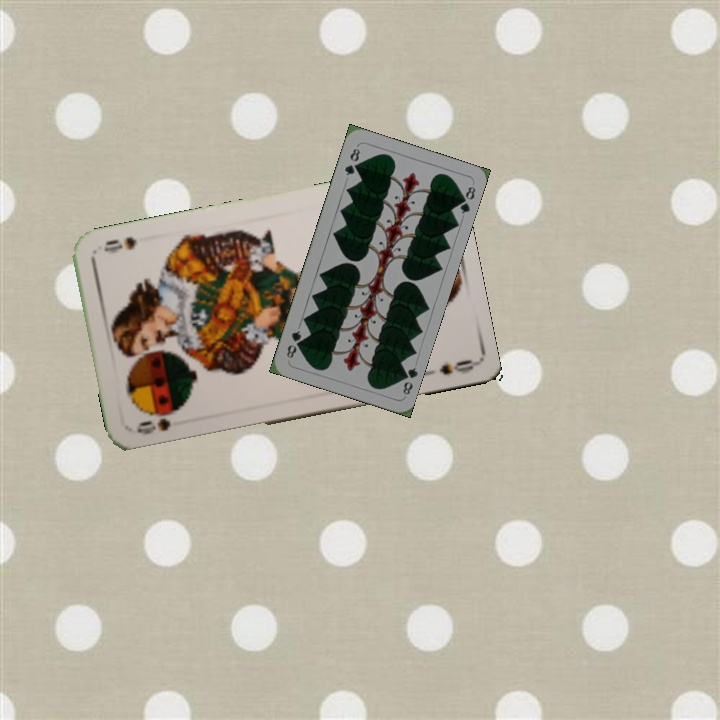G8: (396, 363, 420, 397), (340, 144, 362, 178)
SO: (133, 409, 180, 437)
